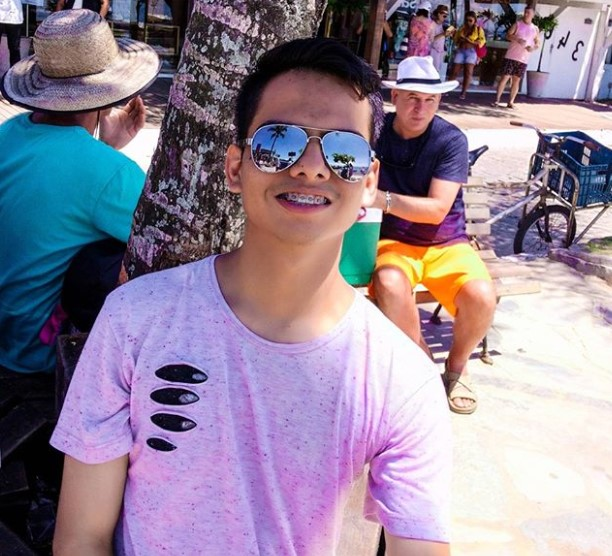face_no_mask: (230, 47, 379, 244), (390, 64, 444, 133), (522, 4, 536, 26)
